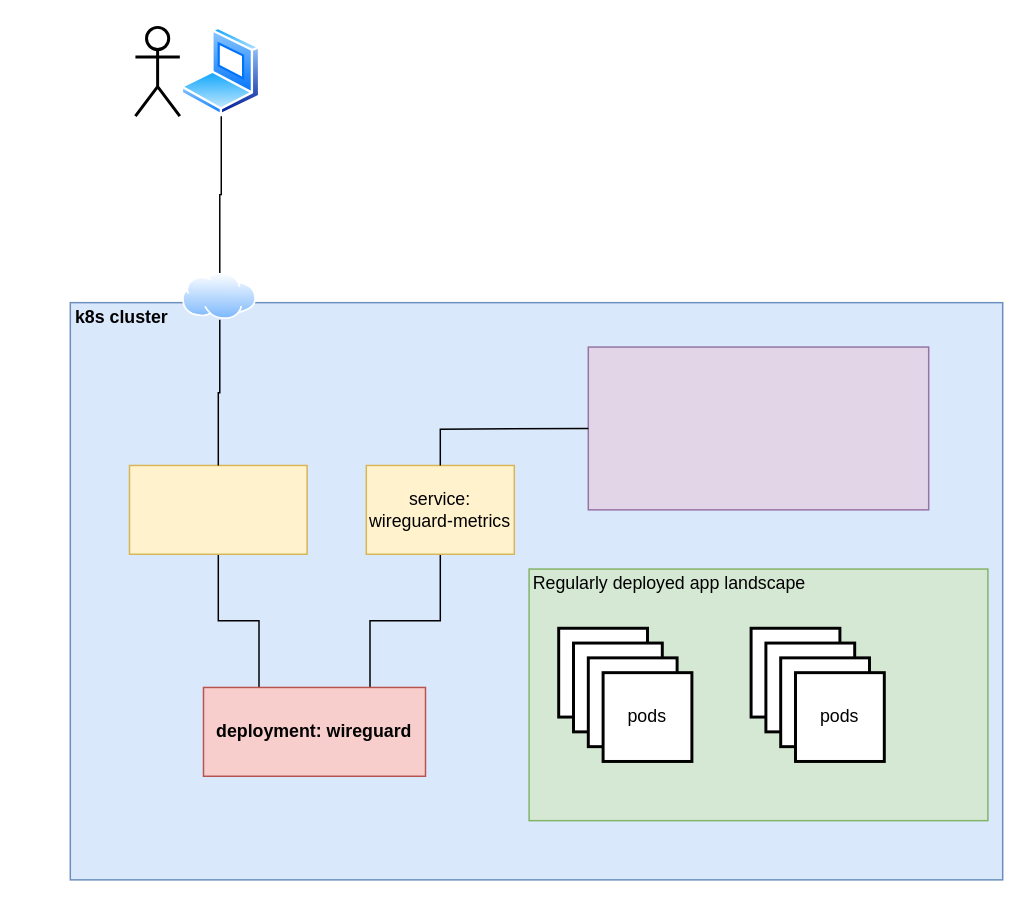
Image size: 1029x906. Some labels were removed from this diagram. The shapes that lost their labels are listed below. From the top down, each one's box as (x1, y1, x2, y2) in pixels, then its label:
(587, 346, 929, 510): monitoring: Prometheus + Grafana
(128, 464, 307, 554): service;loadbalancer: wireguard-service
